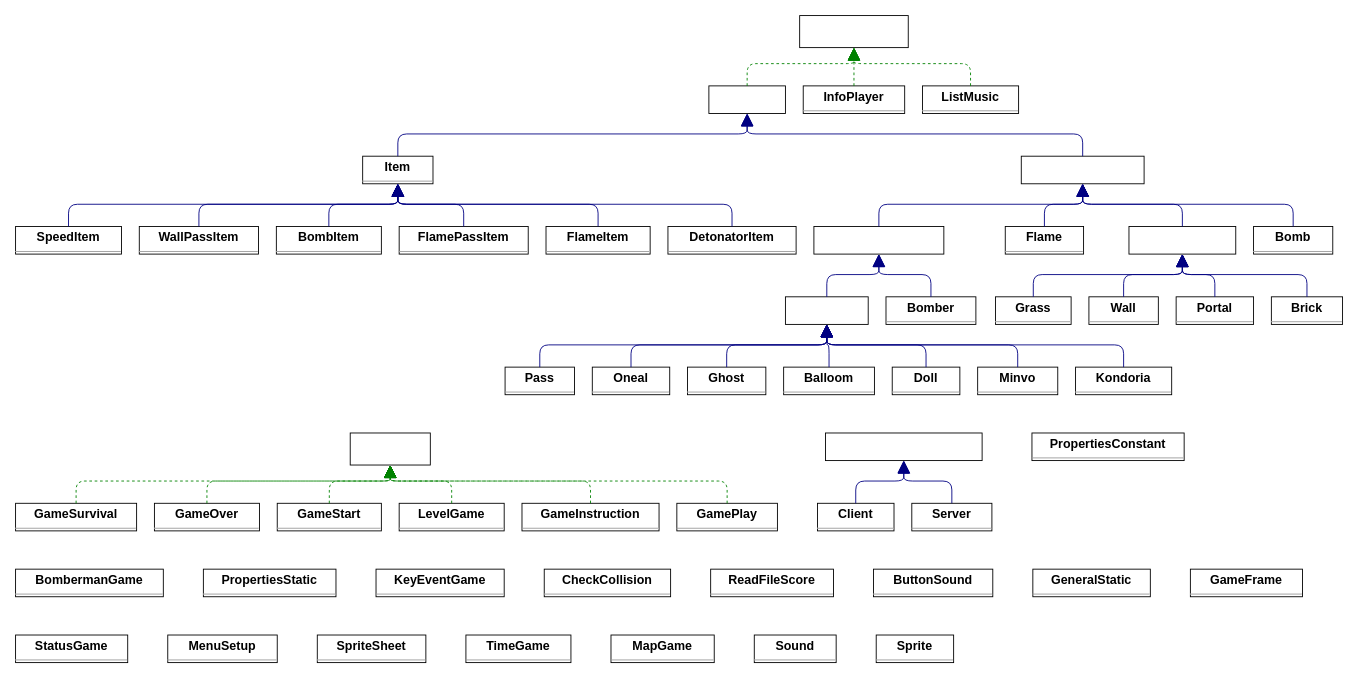
Image size: 1358x678. Some labels were removed from this diagram. Here are the shapes that lost their labels. From the top down, the centre of each, then its label:
At [853,31]: "<<interface>> Renderable".
At [746,99]: "Entity".
At [1082,169]: "AnimateEntity".
At [878,240]: "CanMoveEntity".
At [1182,240]: "StaticEntity".
At [826,310]: "Enemy".
At [389,448]: "<<interface>> Frame".
At [903,446]: "NetworkConnection".
